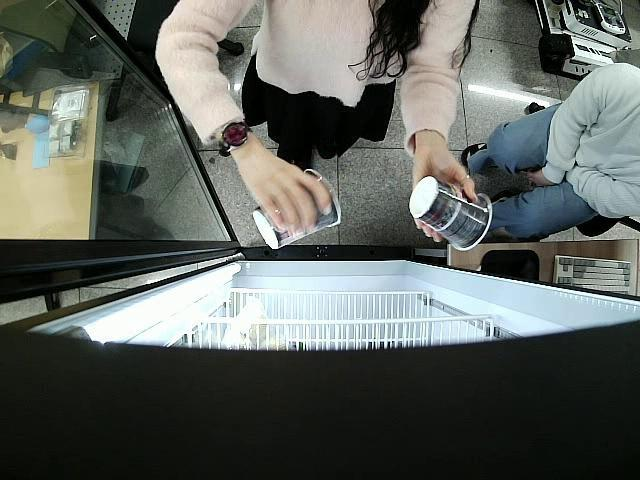08_buldak_S: (253, 168, 345, 248), (408, 174, 492, 255)
